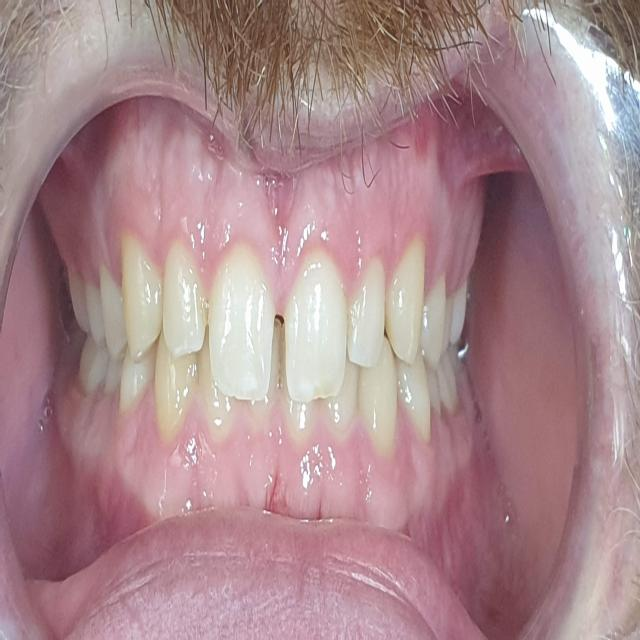tooth: (210, 251, 274, 399), (290, 240, 350, 396), (384, 246, 433, 357), (153, 258, 203, 363), (120, 251, 165, 349), (201, 375, 245, 449), (357, 266, 387, 369), (366, 377, 400, 449), (160, 364, 195, 432), (100, 263, 125, 357), (406, 366, 437, 439), (126, 356, 157, 413), (329, 396, 365, 440), (249, 378, 274, 432), (287, 400, 309, 448)
